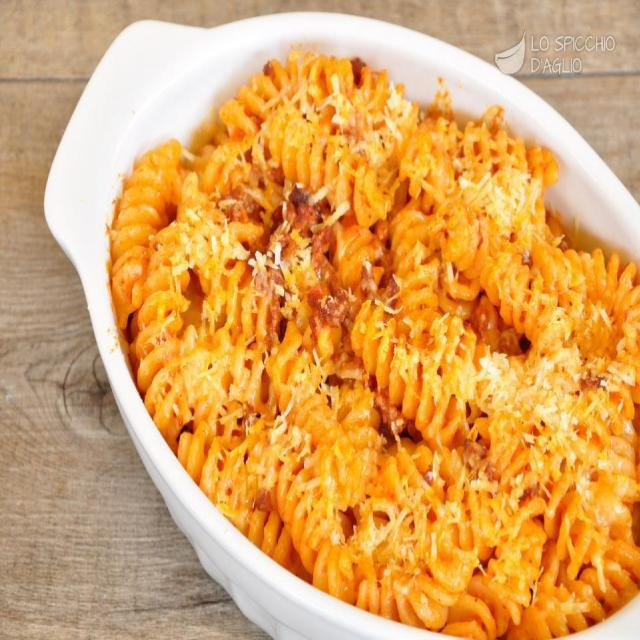Pasta al ragu: (133, 45, 626, 569)
